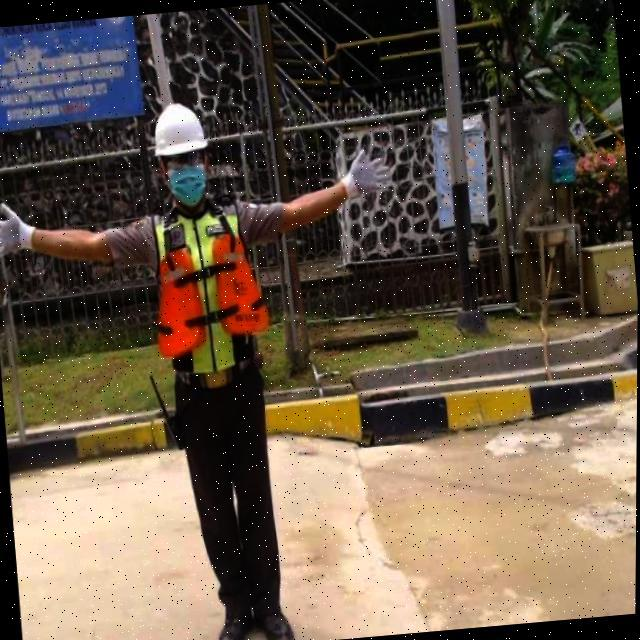goggles_on: (159, 148, 210, 174)
